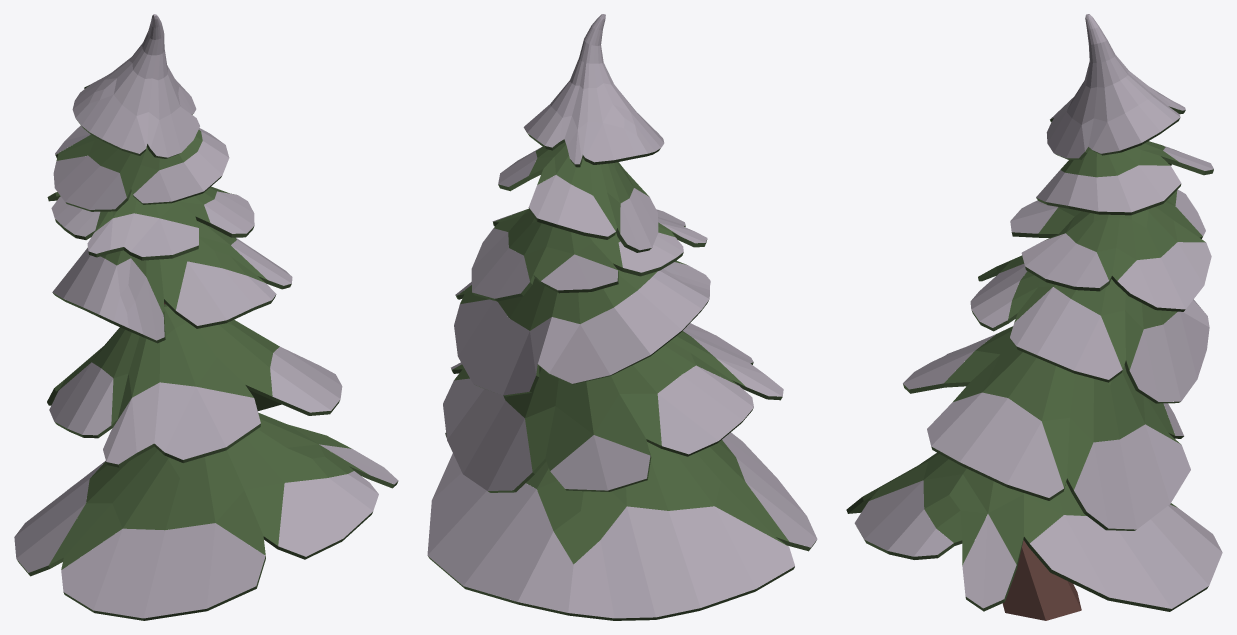
Rendered from PineTree_Snow_3-transformed.glb.
3 renders of one model, left to right at view 1: azimuth 30°, elevation 25°; view 2: azimuth 150°, elevation 25°; view 3: azimuth 270°, elevation 25°, orthographic. The views are drawn at different scales.
Visible parts, largest first — view 1: PineTree_Snow_3; view 2: PineTree_Snow_3; view 3: PineTree_Snow_3.
Boxes of the visible parts, x1=… form: PineTree_Snow_3: x1=14, y1=14, x2=398, y2=620; PineTree_Snow_3: x1=427, y1=14, x2=817, y2=620; PineTree_Snow_3: x1=846, y1=14, x2=1222, y2=620.
Bounding box in the file's own units: 2.16 × 3.3 × 1.95.
